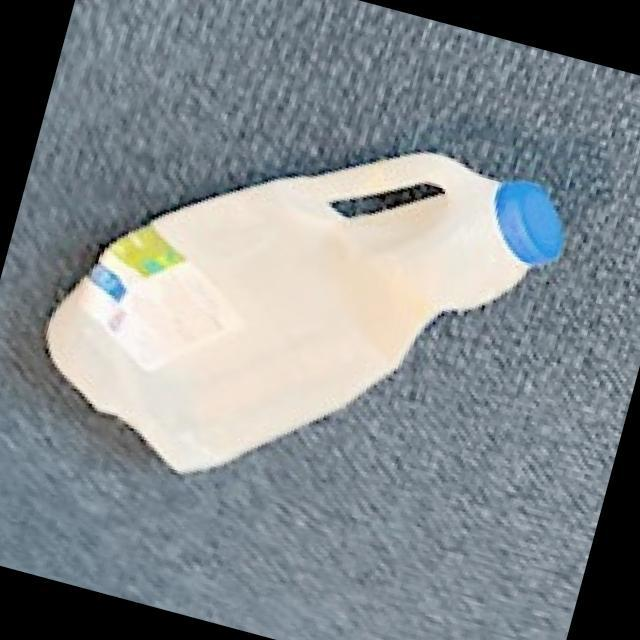HDPE Plastic: (42, 149, 567, 477)
